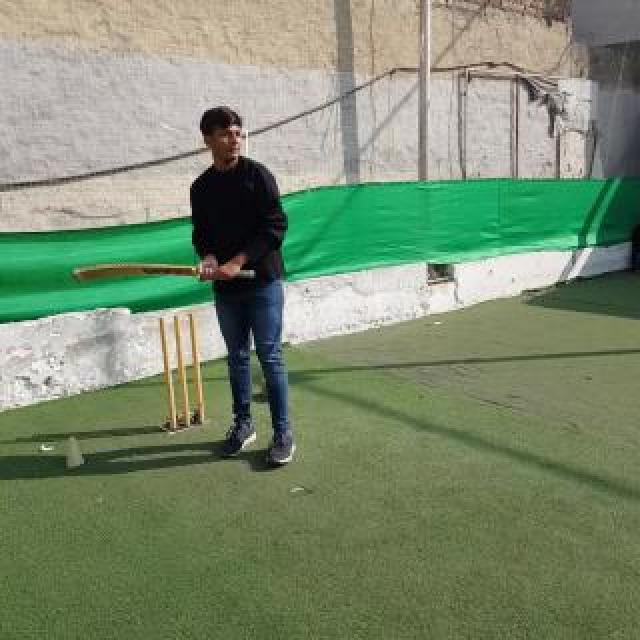bat: (72, 262, 256, 284)
